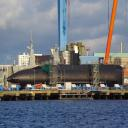submarine: (5, 51, 124, 88)
